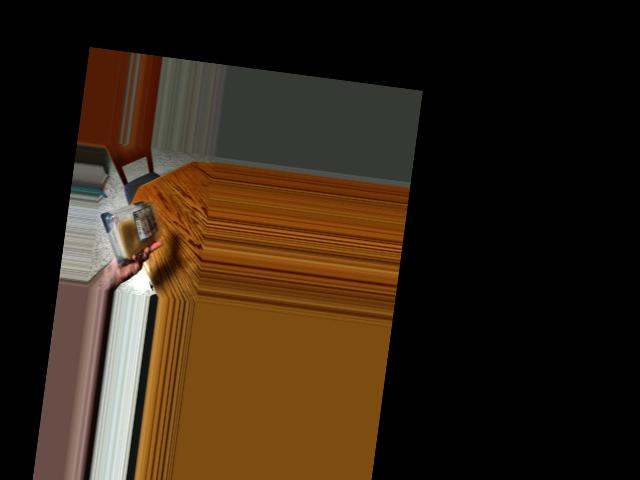cheese: (103, 192, 164, 266)
